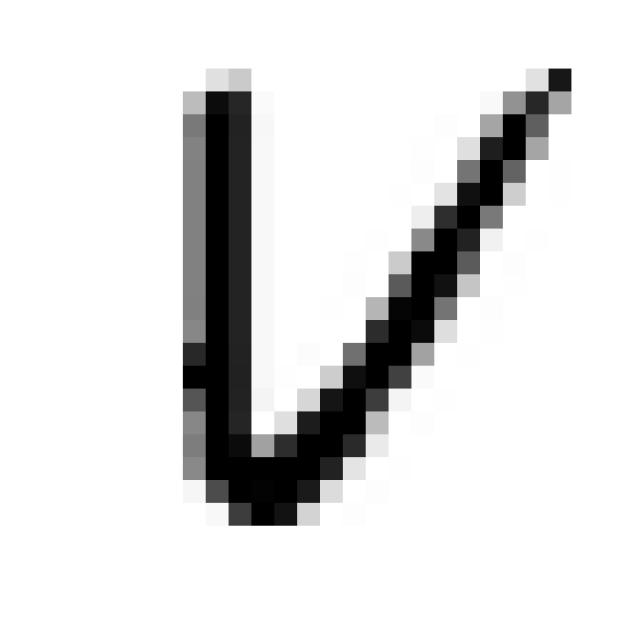7 -seven-: (153, 34, 587, 544)
